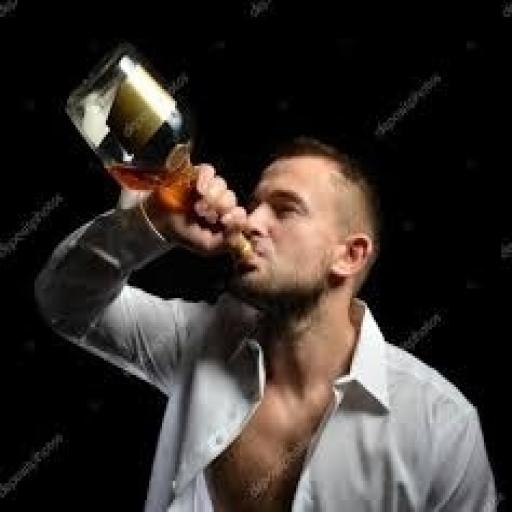drinking: (63, 22, 440, 466)
